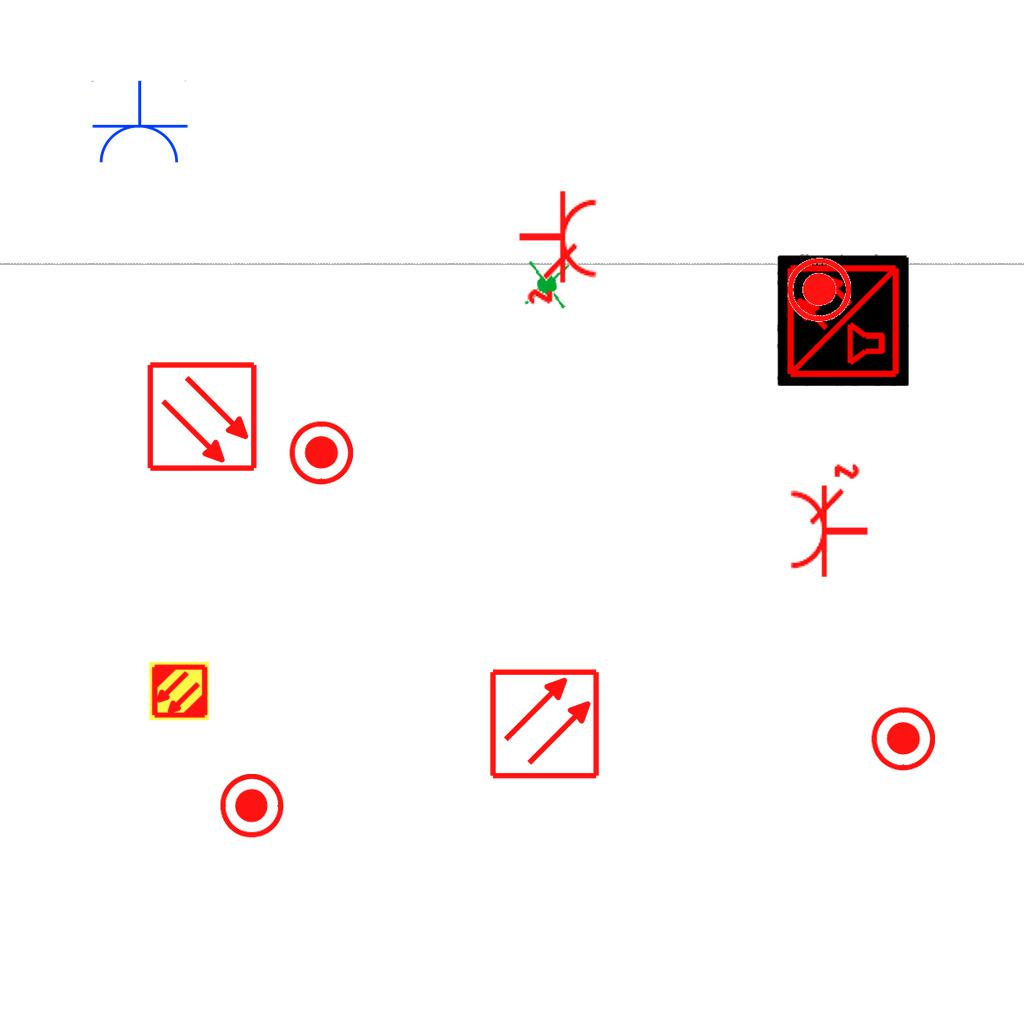ASR_Ansaugrauchmelder: (148, 660, 210, 722)
Notlichtbaustein_in_Allgemeinbeleuchtug_engebaut_Einbau_(1UG_und_2UG_Aufbauvaria: (519, 257, 576, 313)
OKW_Multisensormelder_(Kombination_optischer_Rauch-Kahlenmonoxid_Waerme-Melder): (777, 254, 909, 386)
RMO_Rauchmelder_optischer: (488, 667, 601, 780), (146, 360, 259, 473)
Schukosteckdose_einfach: (89, 80, 189, 167)
Schukosteckdose_mehrfach: (513, 186, 601, 307), (786, 461, 874, 582)
Taster: (869, 705, 935, 771), (287, 419, 353, 485), (218, 774, 284, 840), (785, 256, 851, 322)
